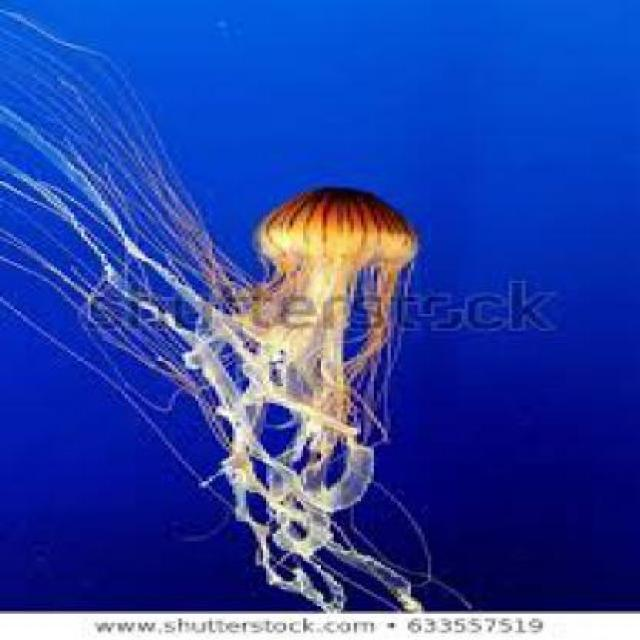Jellyfish: (93, 183, 424, 623)
